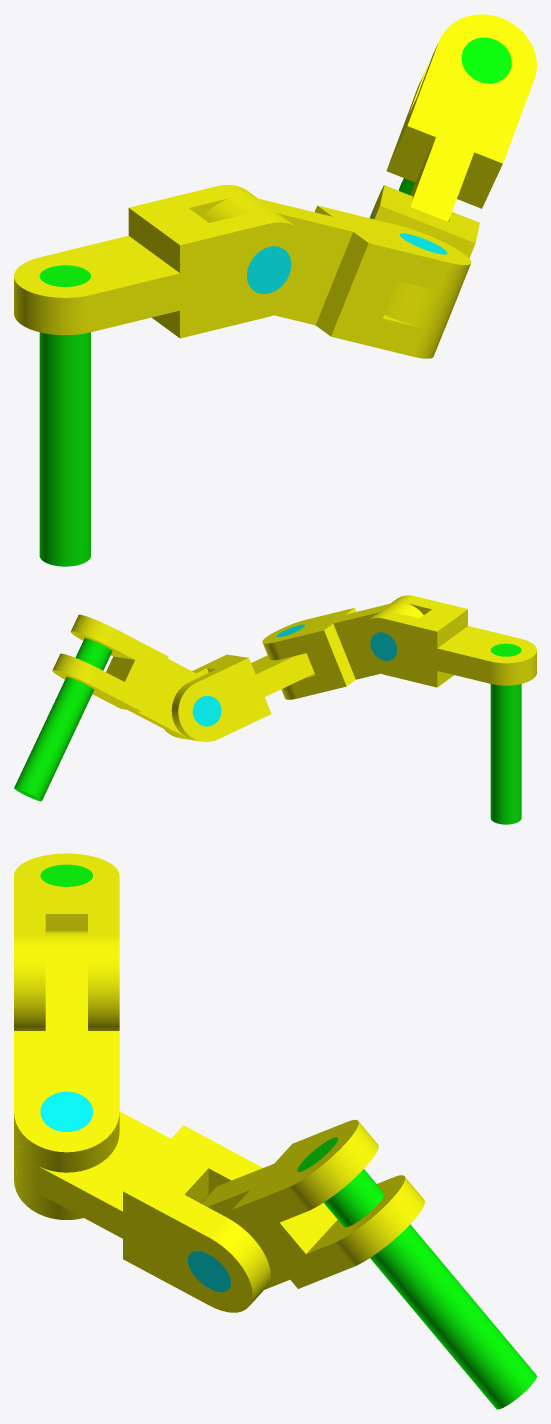
File: Assem1-_test.glb
The picture shows the model from 3 angles, top to bottom: view 1: azimuth 30°, elevation 25°; view 2: azimuth 150°, elevation 25°; view 3: azimuth 270°, elevation 25°; orthographic projection. The views are drawn at different scales.
Visible parts, largest first — view 1: chain_link-2, chain_link-5, chain_link-3, long_pin-2, chain_link-4, long_pin-4, short_pin-1; view 2: chain_link-2, chain_link-5, chain_link-4, chain_link-3, long_pin-2, long_pin-4, short_pin-2, short_pin-1; view 3: chain_link-4, chain_link-5, chain_link-3, chain_link-2, long_pin-4, short_pin-3, short_pin-2, long_pin-2.
Boxes of the visible parts, x1=… form: chain_link-2: x1=14, y1=184, x2=313, y2=338; chain_link-5: x1=386, y1=14, x2=536, y2=221; chain_link-3: x1=202, y1=196, x2=471, y2=358; long_pin-2: x1=39, y1=265, x2=90, y2=566; chain_link-4: x1=369, y1=185, x2=479, y2=330; long_pin-4: x1=399, y1=37, x2=511, y2=194; short_pin-1: x1=247, y1=246, x2=291, y2=293; chain_link-2: x1=357, y1=595, x2=536, y2=687; chain_link-5: x1=52, y1=614, x2=201, y2=740; chain_link-4: x1=164, y1=653, x2=314, y2=741; chain_link-3: x1=262, y1=602, x2=423, y2=699; long_pin-2: x1=490, y1=643, x2=521, y2=824; long_pin-4: x1=14, y1=638, x2=112, y2=801; short_pin-2: x1=192, y1=695, x2=221, y2=726; short_pin-1: x1=370, y1=632, x2=396, y2=660; chain_link-4: x1=14, y1=1111, x2=270, y2=1312; chain_link-5: x1=200, y1=1119, x2=424, y2=1289; chain_link-3: x1=14, y1=931, x2=119, y2=1219; chain_link-2: x1=14, y1=853, x2=119, y2=1030; long_pin-4: x1=297, y1=1137, x2=536, y2=1409; short_pin-3: x1=40, y1=1091, x2=92, y2=1131; short_pin-2: x1=188, y1=1251, x2=230, y2=1292; long_pin-2: x1=40, y1=864, x2=92, y2=886.
Bounding box in the file's own units: 0.7232 × 0.33 × 0.4955.
